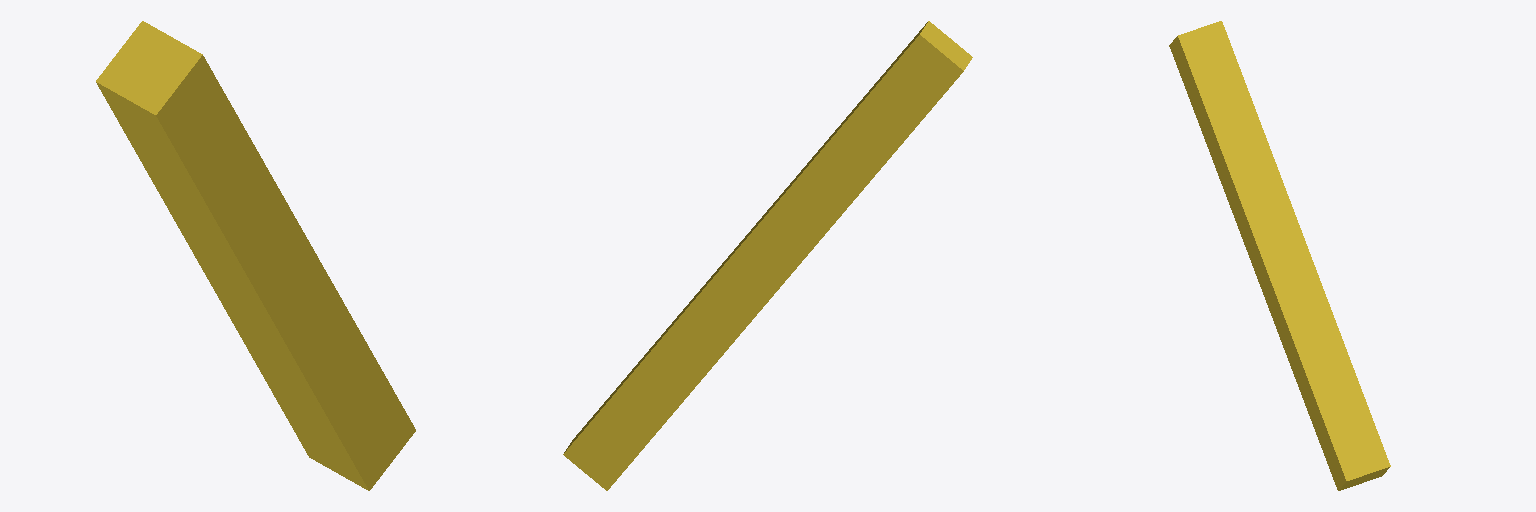
The robot description file, URDF, robot "fall_bar":
<?xml version="1.0"?>
<!-- 회전 낙하 시험 4: 긴 막대(0.8 x 0.08 x 0.08 m)를 비스듬히 놓는다. 한쪽 끝이 먼저 닿아 돌며 쓰러진다.
     뷰어에서 열면 위(z=1.5 m 근처)에서 시작해 중력으로 떨어진다. 기울어진 채 닿으면 모서리로 구르다 한 면에 서서 멈춘다. 단위 m, rad. -->
<robot name="fall_bar">
  <material name="body"><color rgba="0.85 0.75 0.25 1"/></material>
  <link name="fall_bar_link">
    <inertial><origin xyz="0 0 1.5"/><mass value="1.0"/><inertia ixx="0.02" ixy="0" ixz="0" iyy="0.02" iyz="0" izz="0.02"/></inertial>
    <visual>
      <origin xyz="0 0 1.5" rpy="0.3 0.9 0.6"/>
      <geometry><box size="0.8 0.08 0.08"/></geometry>
      <material name="body"/>
    </visual>
  </link>
</robot>

--- Facts derived from the render (not from the file) ---
The picture shows the robot from 3 angles, left to right: view 1: azimuth 30°, elevation 25°; view 2: azimuth 150°, elevation 25°; view 3: azimuth 270°, elevation 25°; orthographic projection.
Model fall_bar with 1 links and 0 joints (none), rooted at fall_bar_link, posed all joints at 0.
Links seen in each view (by area): view 1: fall_bar_link; view 2: fall_bar_link; view 3: fall_bar_link.
Boxes of the visible links, left/top/right/bottom form: fall_bar_link: left=96, top=21, right=415, bottom=490; fall_bar_link: left=563, top=21, right=972, bottom=490; fall_bar_link: left=1169, top=21, right=1390, bottom=490.
Bounding box of the posed robot: 0.5011 × 0.3686 × 0.6889 m (x, y, z).
Geometry: primitives only (box / cylinder / sphere), no mesh files.
